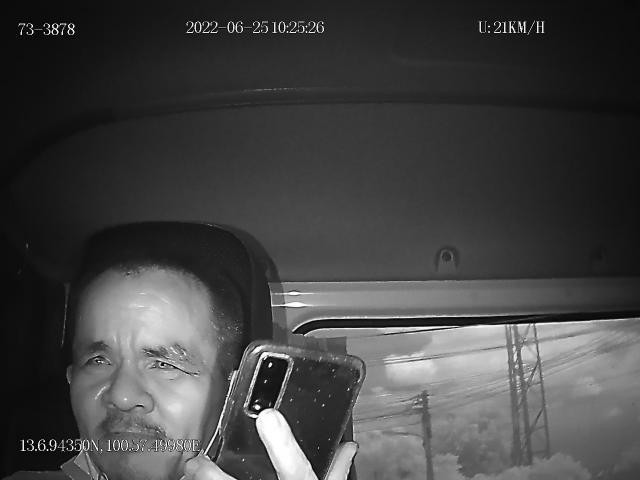PhoneUse: (215, 340, 368, 480)
SafeDriving: (140, 342, 192, 380), (76, 342, 120, 378)
